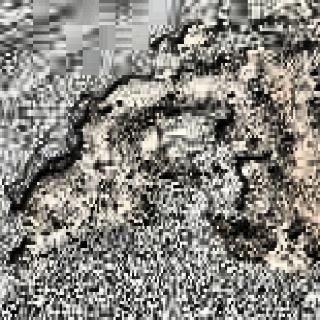pothole: (10, 4, 311, 298)
